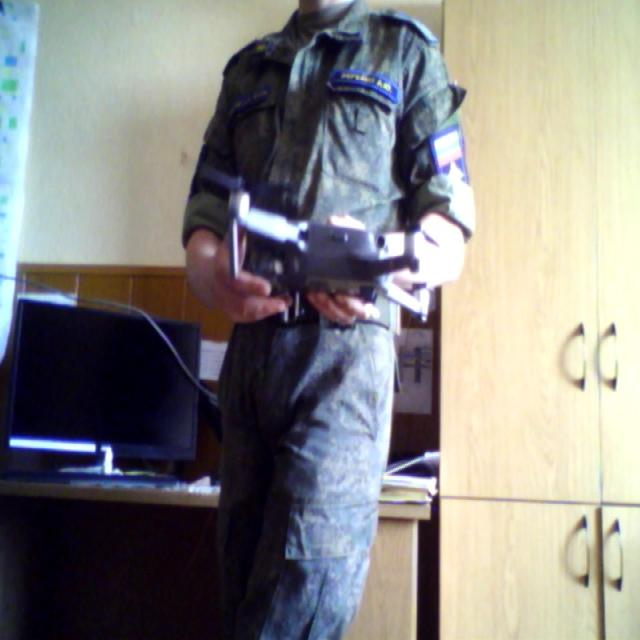drone: (195, 153, 444, 339)
